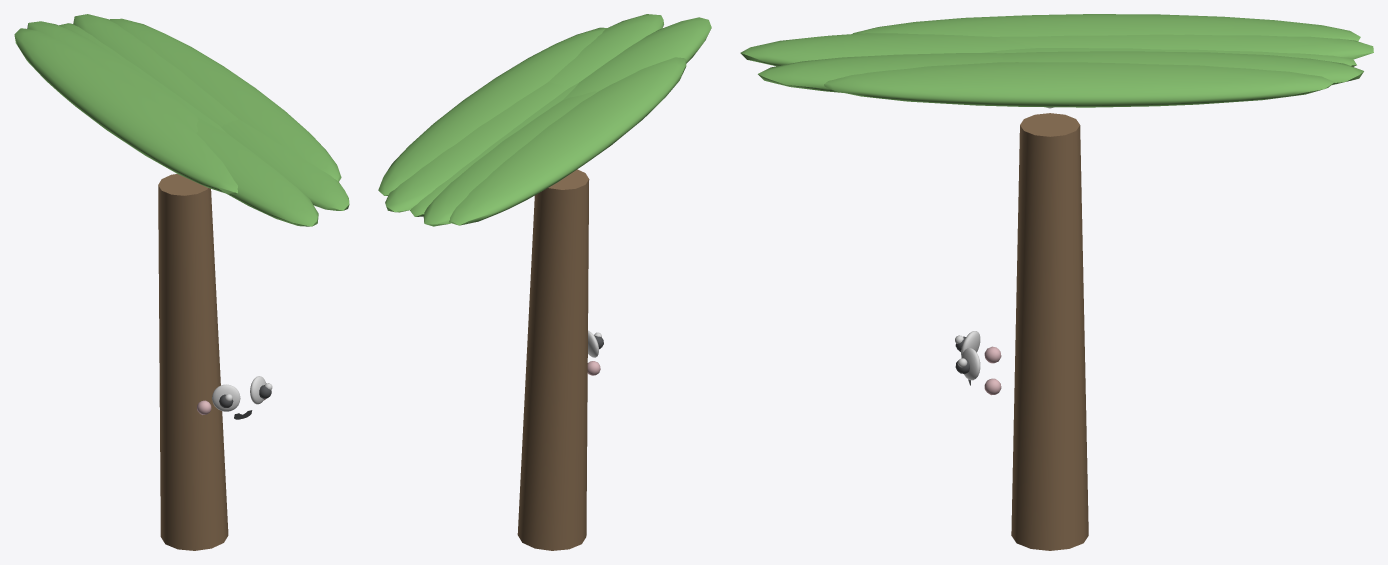
Rendered from licuala-grandis.glb.
3 views of the same model, side by side, from view 1: azimuth 30°, elevation 25°; view 2: azimuth 150°, elevation 25°; view 3: azimuth 270°, elevation 25° (orthographic). The views are drawn at different scales.
Visible parts, largest first — view 1: trunk, frond3, frond0, frond2, frond6, frond1, frond4, frond5, pface-eye-r; view 2: trunk, frond3, frond0, frond6, frond2, frond4, frond1, frond5; view 3: trunk, frond0, frond3, frond2, frond4, frond6, frond1, frond5.
Boxes of the visible parts, box(x1,y1,x2,y2) form: trunk: box(158, 174, 228, 550); frond3: box(14, 28, 237, 194); frond0: box(109, 18, 341, 181); frond2: box(196, 117, 318, 226); frond6: box(73, 14, 237, 126); frond1: box(221, 118, 349, 210); frond4: box(27, 21, 198, 132); frond5: box(59, 23, 226, 132); pface-eye-r: box(212, 384, 240, 411); trunk: box(517, 169, 589, 550); frond3: box(449, 57, 686, 225); frond0: box(378, 27, 607, 195); frond6: box(385, 82, 569, 212); frond2: box(563, 17, 711, 99); frond4: box(423, 91, 597, 226); frond1: box(548, 14, 663, 87); frond5: box(410, 83, 578, 216); trunk: box(1011, 113, 1088, 550); frond0: box(824, 62, 1334, 107); frond3: box(852, 14, 1360, 41); frond2: box(740, 33, 1035, 66); frond4: box(997, 34, 1373, 59); frond6: box(999, 51, 1363, 85); frond1: box(758, 53, 1005, 92); frond5: box(982, 48, 1356, 66).
Bounding box in the file's own units: 0.2314 × 0.6297 × 0.7371.
